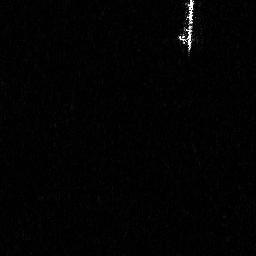ship: (179, 1, 196, 56)
